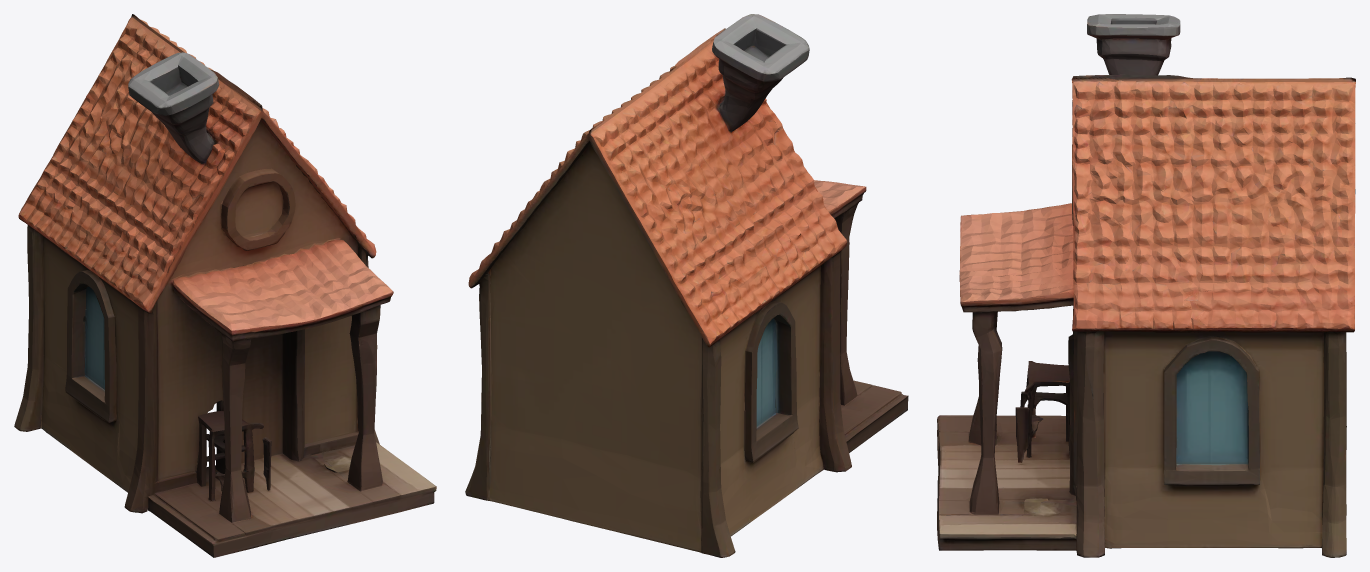
File: voxhammer_t04.glb
The picture shows the model from 3 angles, left to right: view 1: azimuth 30°, elevation 25°; view 2: azimuth 150°, elevation 25°; view 3: azimuth 270°, elevation 25°; orthographic projection. The views are drawn at different scales.
Parts seen in each view (by area): view 1: geometry_0; view 2: geometry_0; view 3: geometry_0.
Boxes of the visible parts, x1,y1,x2,y2 form: geometry_0: (14, 14, 436, 557); geometry_0: (465, 14, 908, 557); geometry_0: (937, 14, 1355, 557).
Size of the model in its own units: 0.7251 by 1.13 by 0.9578.
1 material, 1 textured.
